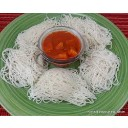idiyappam: (35, 66, 89, 109), (63, 15, 115, 48), (1, 46, 41, 85), (84, 49, 120, 91), (14, 17, 50, 46)
